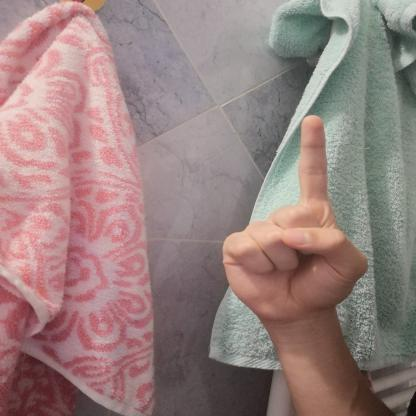BAA: (210, 103, 376, 334)
